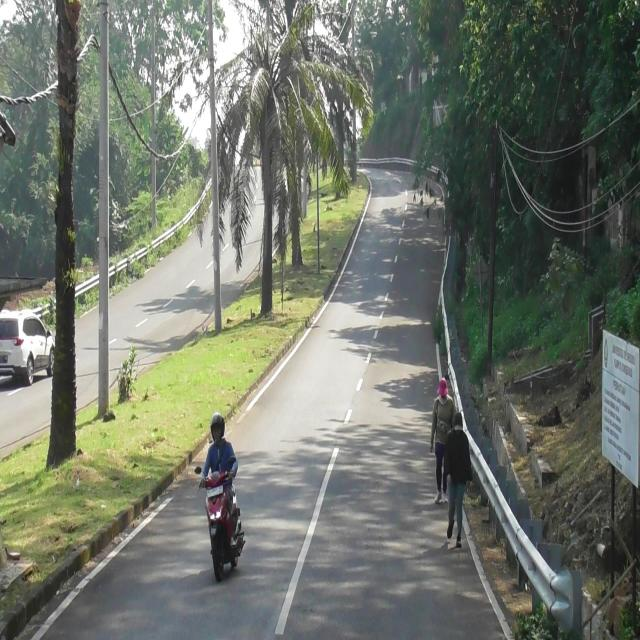motorcycle: (196, 458, 245, 582)
person: (201, 412, 238, 546)
rider_region: (201, 412, 245, 582)
